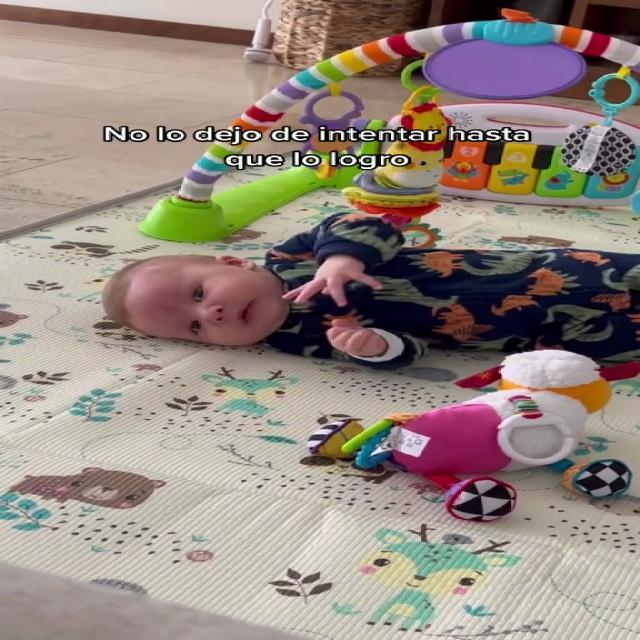baby: (105, 207, 640, 384)
